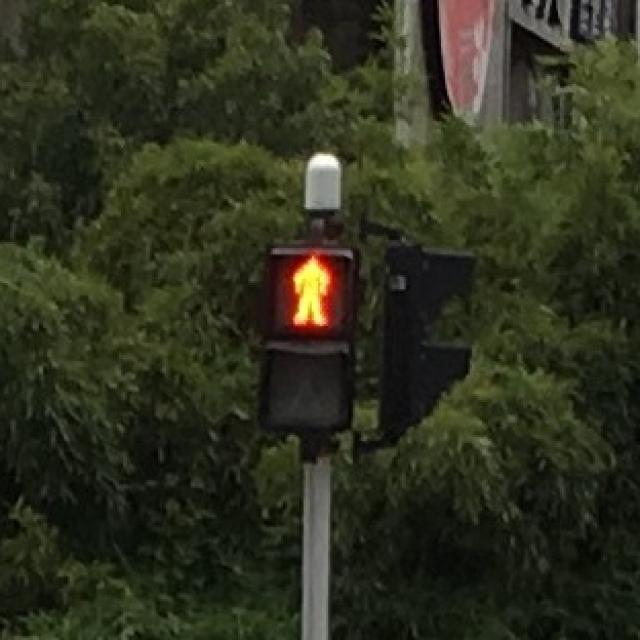red_light: (275, 248, 344, 334)
